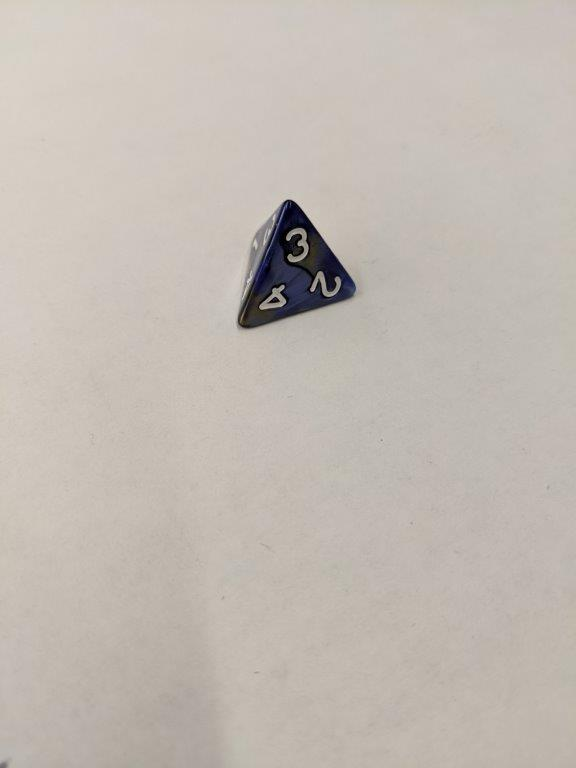d4-3: (232, 191, 360, 339)
